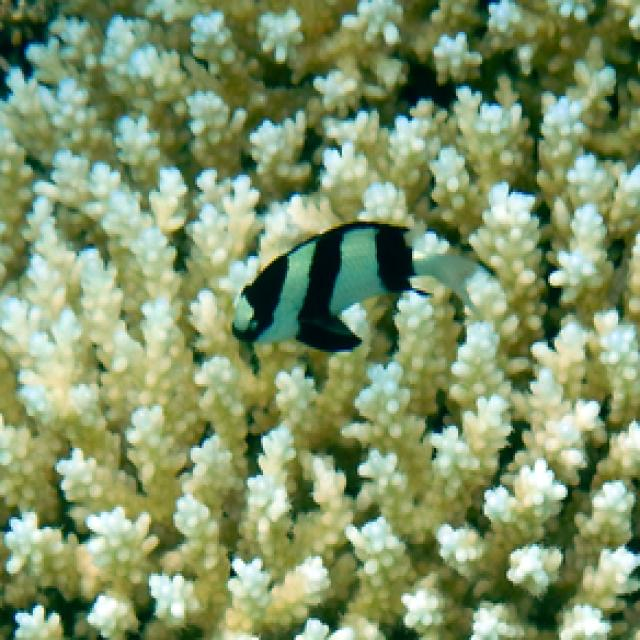ThreeStripedDamselfish: (232, 224, 484, 354)
